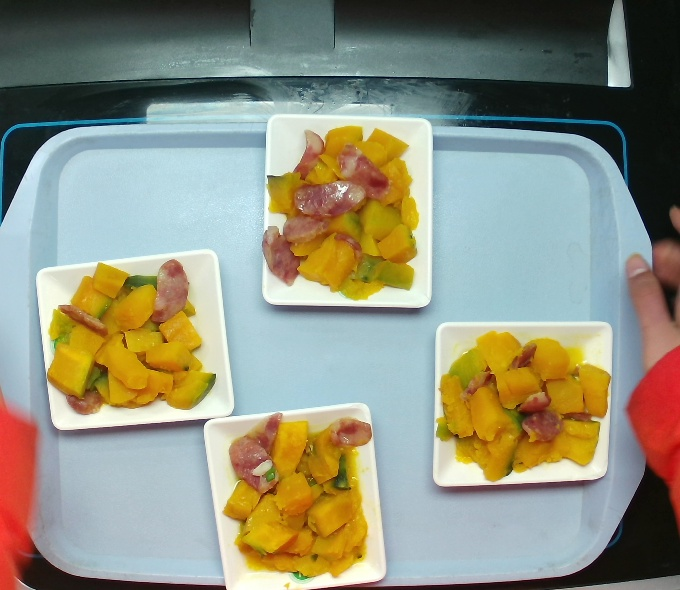wcq-NanGuaChaoXiangChang: (428, 317, 613, 493), (42, 258, 223, 418), (261, 121, 418, 303), (217, 408, 380, 583)
